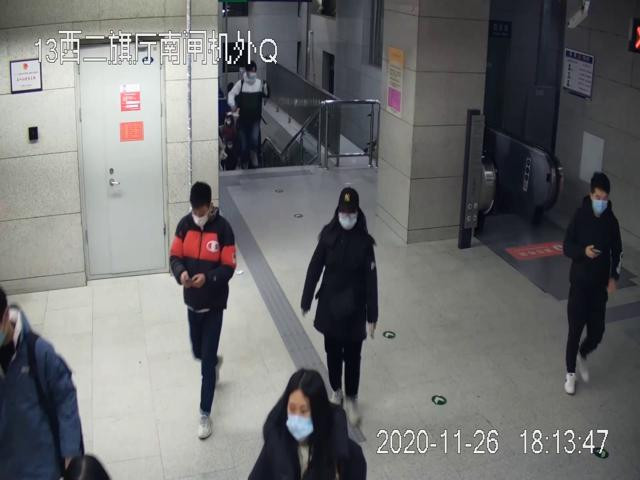person: (301, 184, 378, 428), (169, 181, 237, 441), (563, 171, 623, 393)
